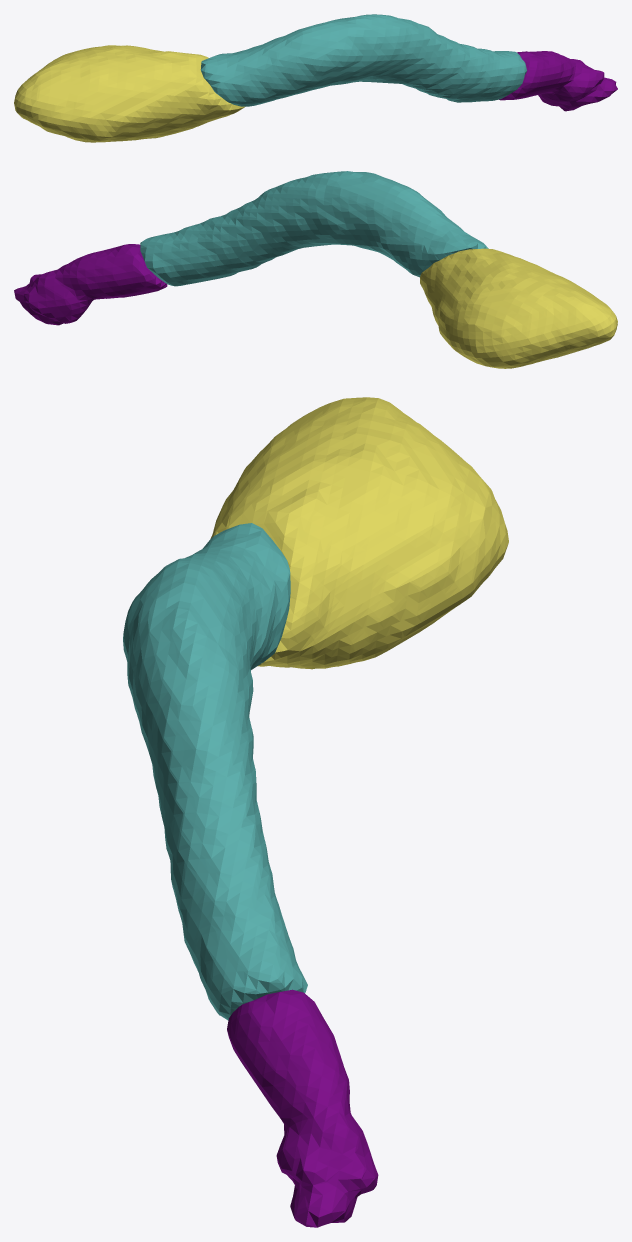
Rendered from fallopian-tube-left-millitome.glb.
3 renders of one model, top to bottom at view 1: azimuth 30°, elevation 25°; view 2: azimuth 150°, elevation 25°; view 3: azimuth 270°, elevation 25°, orthographic. The views are drawn at different scales.
Parts seen in each view (by area): view 1: 16-17-18, 13-14-15, 19-20-21-22-23-24; view 2: 16-17-18, 13-14-15, 19-20-21-22-23-24; view 3: 16-17-18, 13-14-15, 19-20-21-22-23-24.
Part boxes in pixels (box(x1,y1,x2,y2)): 16-17-18: box(200, 14, 526, 106); 13-14-15: box(14, 45, 245, 142); 19-20-21-22-23-24: box(499, 51, 617, 111); 16-17-18: box(140, 171, 488, 286); 13-14-15: box(420, 248, 617, 368); 19-20-21-22-23-24: box(14, 244, 167, 325); 16-17-18: box(123, 523, 307, 1020); 13-14-15: box(210, 397, 508, 669); 19-20-21-22-23-24: box(227, 989, 378, 1227).
Bounding box in the file's own units: 55.23 × 16.23 × 15.63.
